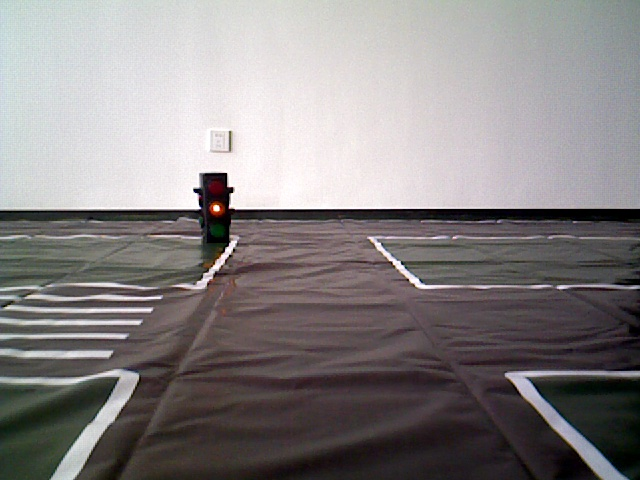yellow: (198, 172, 228, 243)
